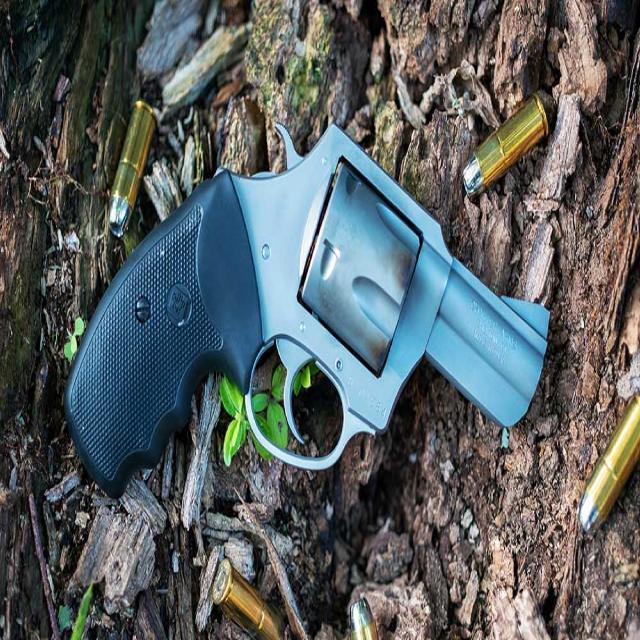Gun: (60, 94, 554, 522)
